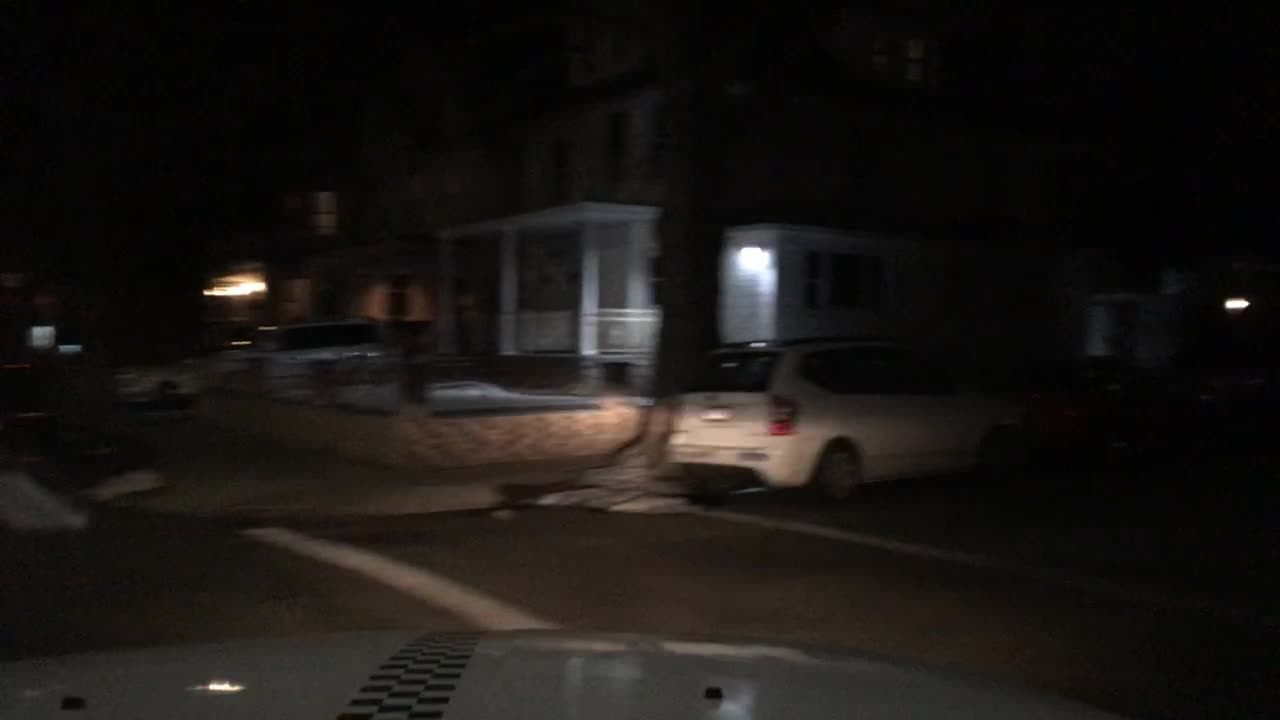car: (661, 332, 1025, 500), (1001, 357, 1224, 458), (0, 311, 89, 453), (114, 337, 284, 404), (247, 318, 405, 368)
